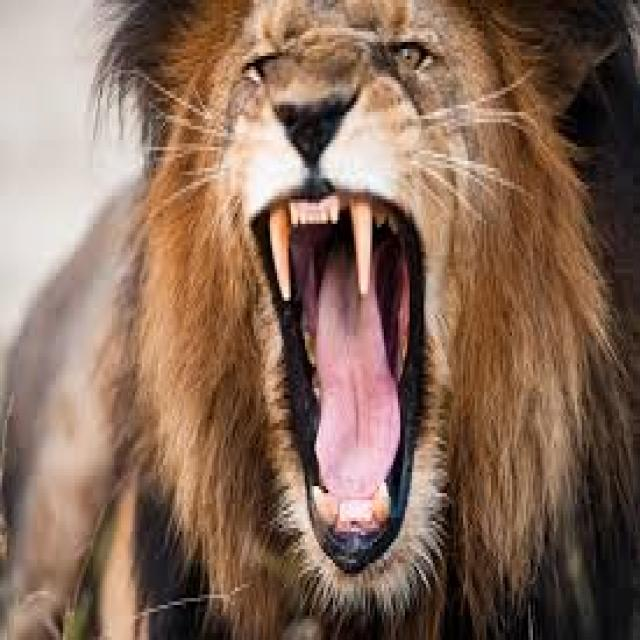Lion: (9, 7, 626, 623)
